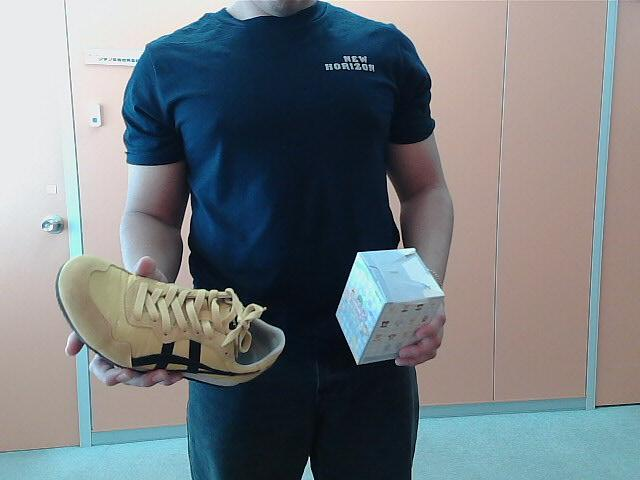Blind_box: (337, 244, 443, 370)
Shoes: (54, 253, 281, 394)
